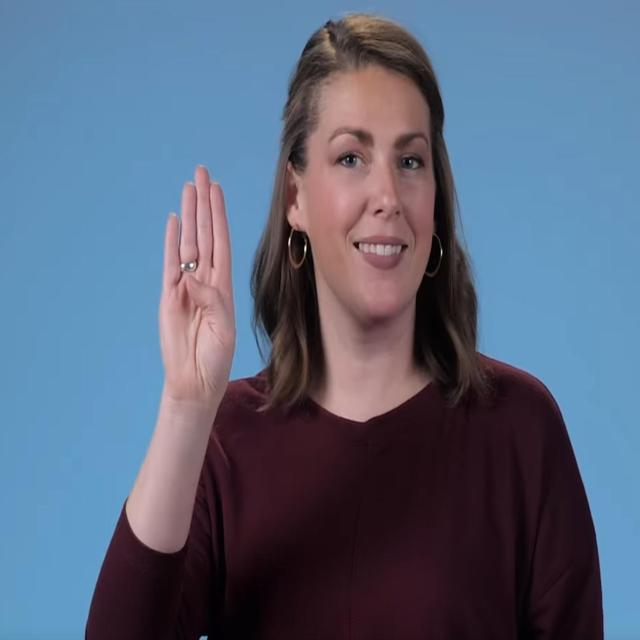B: (156, 160, 239, 408)
